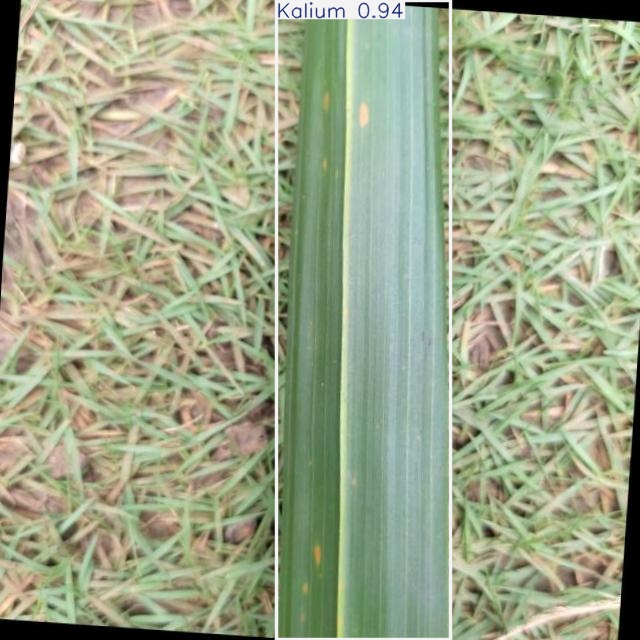Kalium: (276, 1, 451, 640)
